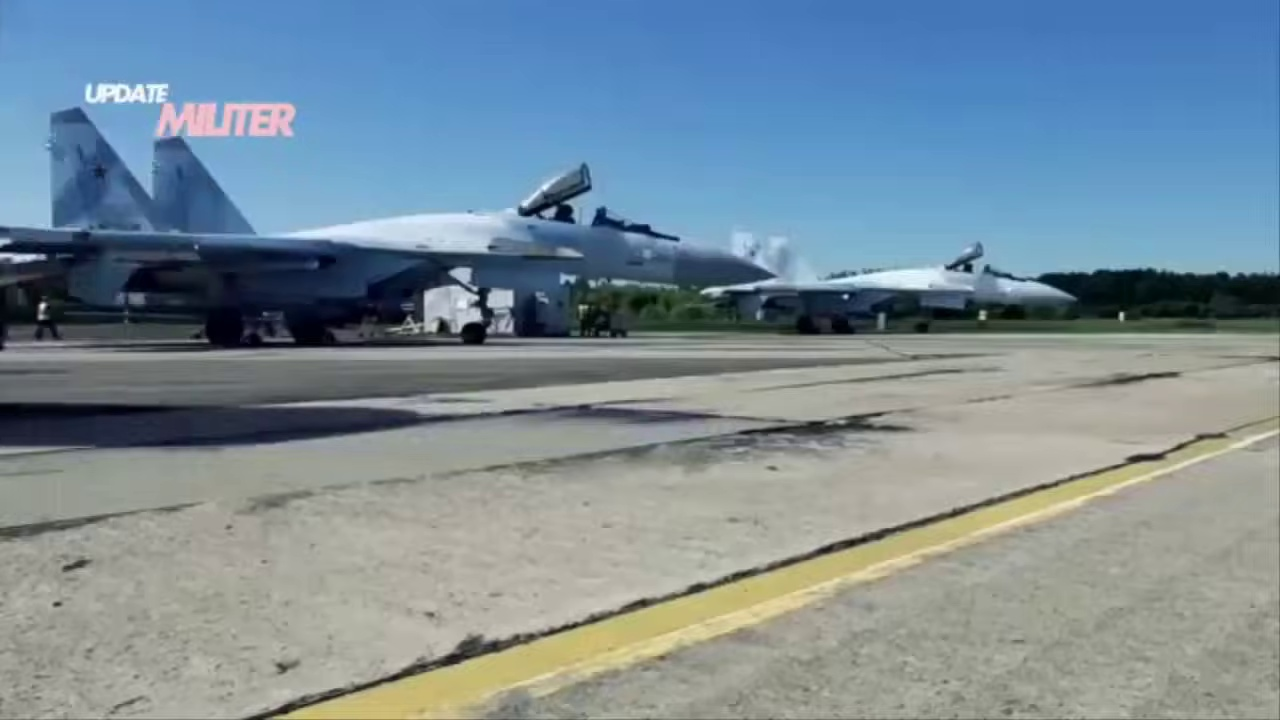Su35: (0, 102, 780, 358), (692, 232, 1081, 338)
